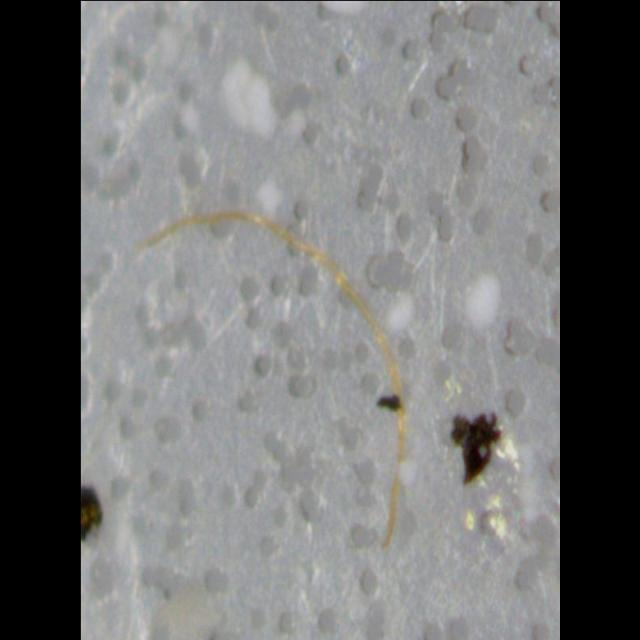Fibre: (133, 209, 407, 551), (448, 411, 502, 487)
